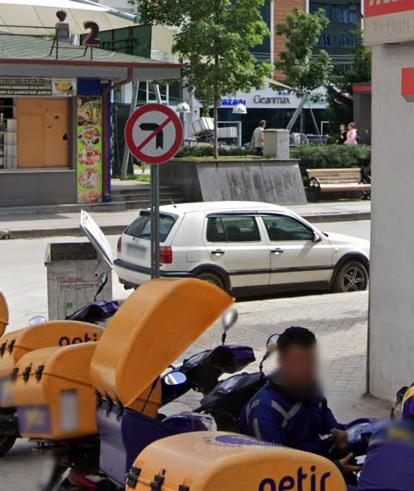leftturnsareforbidden: (126, 103, 183, 164)
